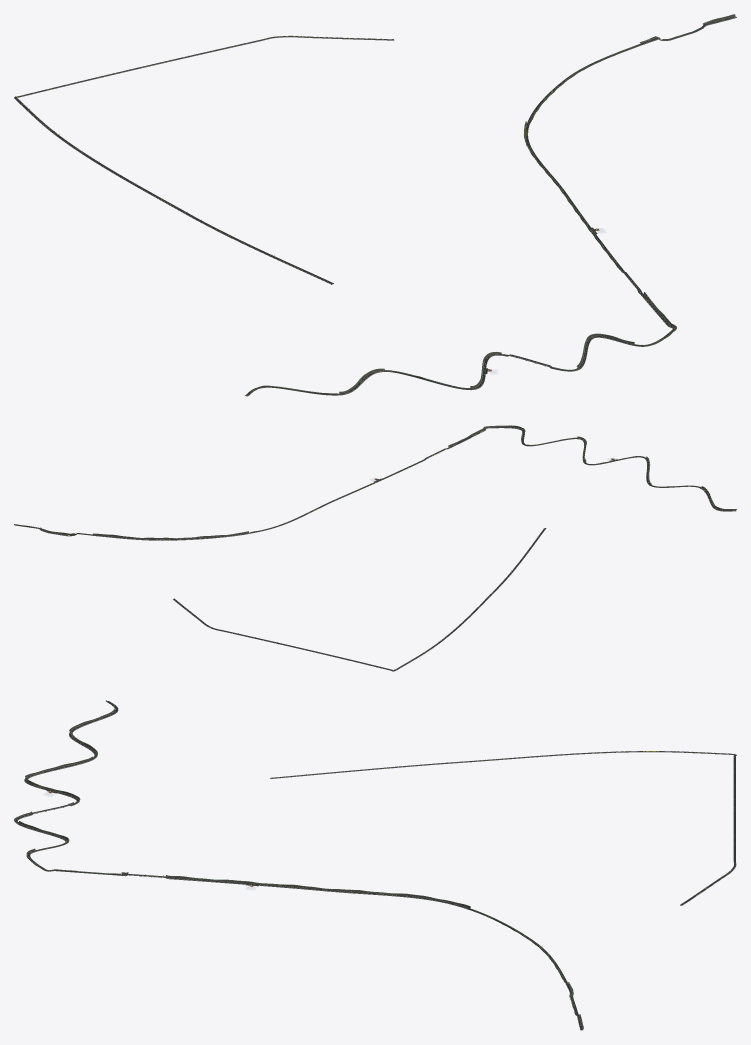
Rendered from deo_ta_nung_dt725_mountain_pass.glb.
3 renders of one model, top to bottom at view 1: azimuth 30°, elevation 25°; view 2: azimuth 150°, elevation 25°; view 3: azimuth 270°, elevation 25°, orthographic. The views are drawn at different scales.
Visible parts, largest first — view 1: DeoTaNung_DT725_Asphalt_Carriageway, DeoTaNung_DT725_Granite_Taluy_Retaining_Walls, DeoTaNung_DT725_Sculpted_Mountain_Rock_Cliffs, DeoTaNung_DT725_Cliff_Bench_Pine_Moss; view 2: DeoTaNung_DT725_Granite_Taluy_Retaining_Walls, DeoTaNung_DT725_Asphalt_Carriageway, DeoTaNung_DT725_Sculpted_Mountain_Rock_Cliffs, DeoTaNung_DT725_Cliff_Bench_Pine_Moss; view 3: DeoTaNung_DT725_Granite_Taluy_Retaining_Walls, DeoTaNung_DT725_Asphalt_Carriageway, DeoTaNung_DT725_Sculpted_Mountain_Rock_Cliffs, DeoTaNung_DT725_Cliff_Bench_Pine_Moss.
Boxes of the visible parts, x1,y1,x2,y2 form: DeoTaNung_DT725_Asphalt_Carriageway: [14, 16, 736, 396]; DeoTaNung_DT725_Granite_Taluy_Retaining_Walls: [14, 15, 736, 396]; DeoTaNung_DT725_Sculpted_Mountain_Rock_Cliffs: [248, 14, 734, 395]; DeoTaNung_DT725_Cliff_Bench_Pine_Moss: [247, 14, 734, 395]; DeoTaNung_DT725_Granite_Taluy_Retaining_Walls: [15, 426, 735, 671]; DeoTaNung_DT725_Asphalt_Carriageway: [36, 427, 736, 671]; DeoTaNung_DT725_Sculpted_Mountain_Rock_Cliffs: [14, 425, 736, 538]; DeoTaNung_DT725_Cliff_Bench_Pine_Moss: [14, 425, 731, 538]; DeoTaNung_DT725_Granite_Taluy_Retaining_Walls: [15, 702, 736, 1030]; DeoTaNung_DT725_Asphalt_Carriageway: [15, 701, 736, 1030]; DeoTaNung_DT725_Sculpted_Mountain_Rock_Cliffs: [14, 701, 583, 1028]; DeoTaNung_DT725_Cliff_Bench_Pine_Moss: [14, 700, 583, 1028].
Bounding box in the file's own units: 4103 × 67.24 × 3874.
